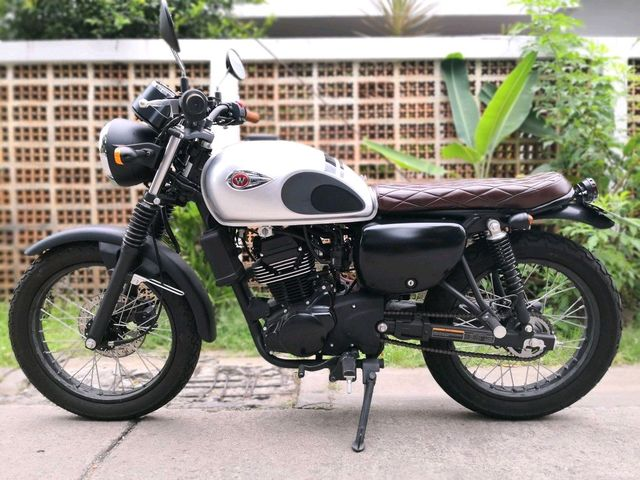motorcycle: (6, 98, 624, 418)
